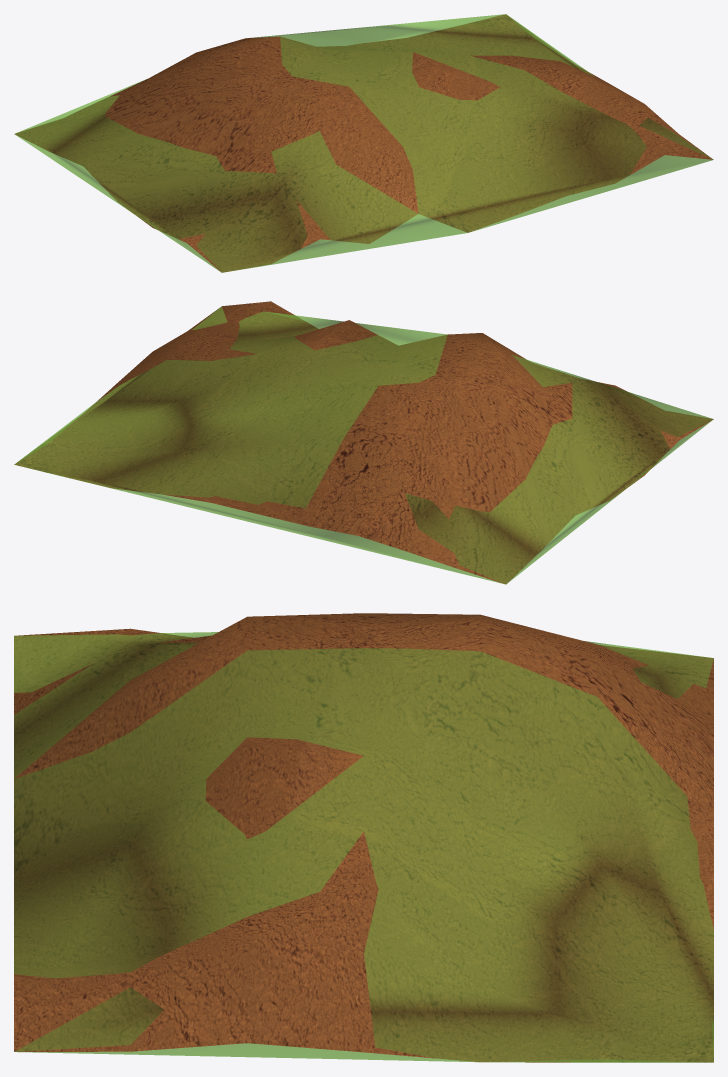
File: pg_spices_03.fbx
3 views of the same model, one above another, from view 1: azimuth 30°, elevation 25°; view 2: azimuth 150°, elevation 25°; view 3: azimuth 270°, elevation 25° (orthographic). The views are drawn at different scales.
Visible parts, largest first — view 1: pg_spices_03_a_LOD0, pg_spices_03_a_col; view 2: pg_spices_03_a_LOD0, pg_spices_03_a_col; view 3: pg_spices_03_a_LOD0, pg_spices_03_a_col.
Part boxes in pixels (box(x1,y1,x2,y2)): pg_spices_03_a_LOD0: box(15, 14, 713, 272); pg_spices_03_a_col: box(14, 14, 712, 272); pg_spices_03_a_LOD0: box(14, 301, 713, 584); pg_spices_03_a_col: box(14, 306, 713, 584); pg_spices_03_a_LOD0: box(14, 613, 713, 1062); pg_spices_03_a_col: box(14, 632, 713, 1062).
Size of what is drawn, in the model's own units: 40.47 by 8.45 by 29.61.
2 materials, 1 textured.
